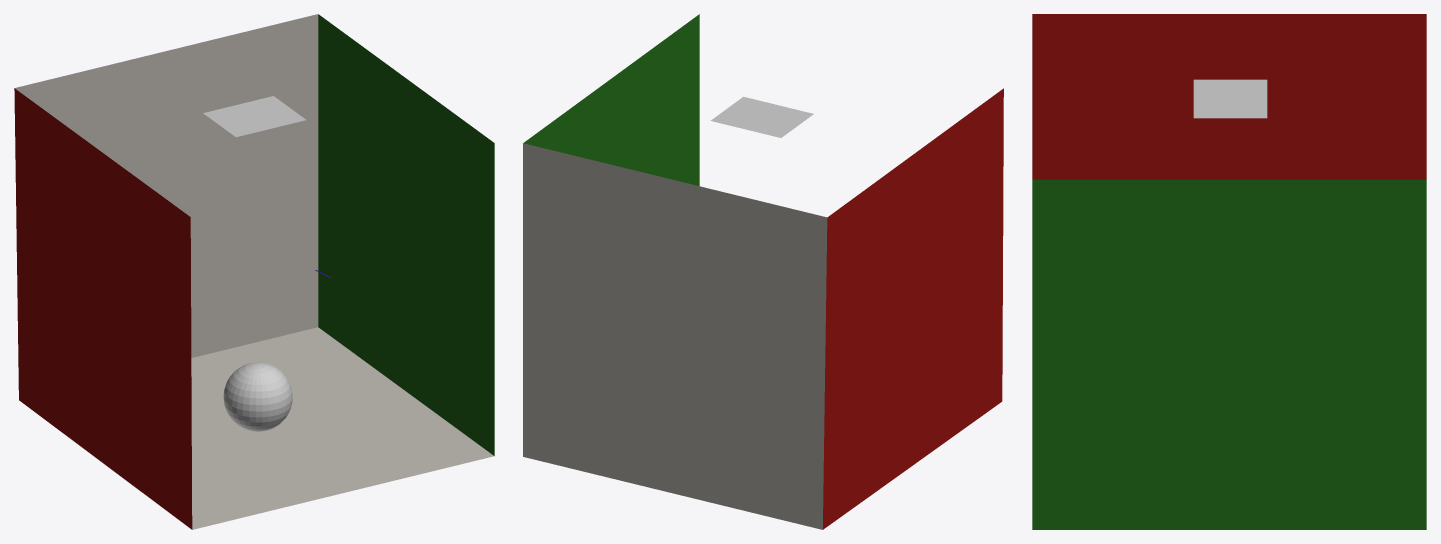
Rendered from ball-cornellbox.obj.
3 renders of one model, left to right at view 1: azimuth 30°, elevation 25°; view 2: azimuth 150°, elevation 25°; view 3: azimuth 270°, elevation 25°, orthographic. The views are drawn at different scales.
Visible parts, largest first — view 1: right_wall, left_wall, back_wall, ground, Sphere, light; view 2: back_wall, left_wall, right_wall, light; view 3: right_wall, left_wall, light.
Part boxes in pixels (<box>): right_wall: <box>318,14,494,455</box>; left_wall: <box>14,88,192,529</box>; back_wall: <box>15,14,318,357</box>; ground: <box>191,327,493,529</box>; Sphere: <box>223,362,292,431</box>; light: <box>203,96,305,137</box>; back_wall: <box>523,143,827,529</box>; left_wall: <box>823,88,1003,529</box>; right_wall: <box>523,14,699,185</box>; light: <box>710,96,813,137</box>; right_wall: <box>1032,179,1426,529</box>; left_wall: <box>1032,14,1426,179</box>; light: <box>1193,79,1267,118</box>.
Bounding box in the file's own units: 2.02 × 1.99 × 2.03.
